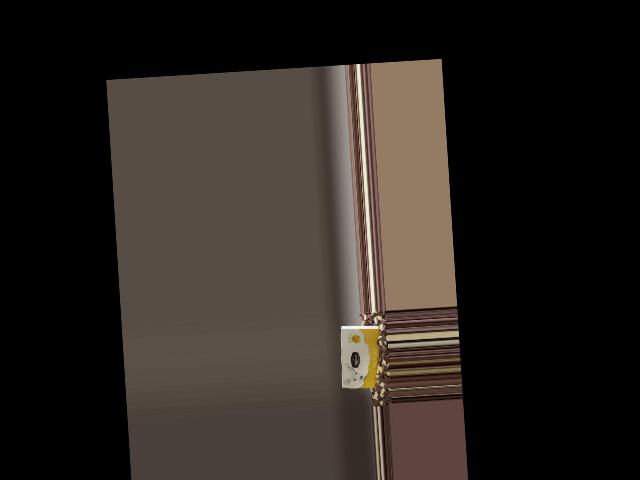chocolate: (336, 320, 385, 393)
